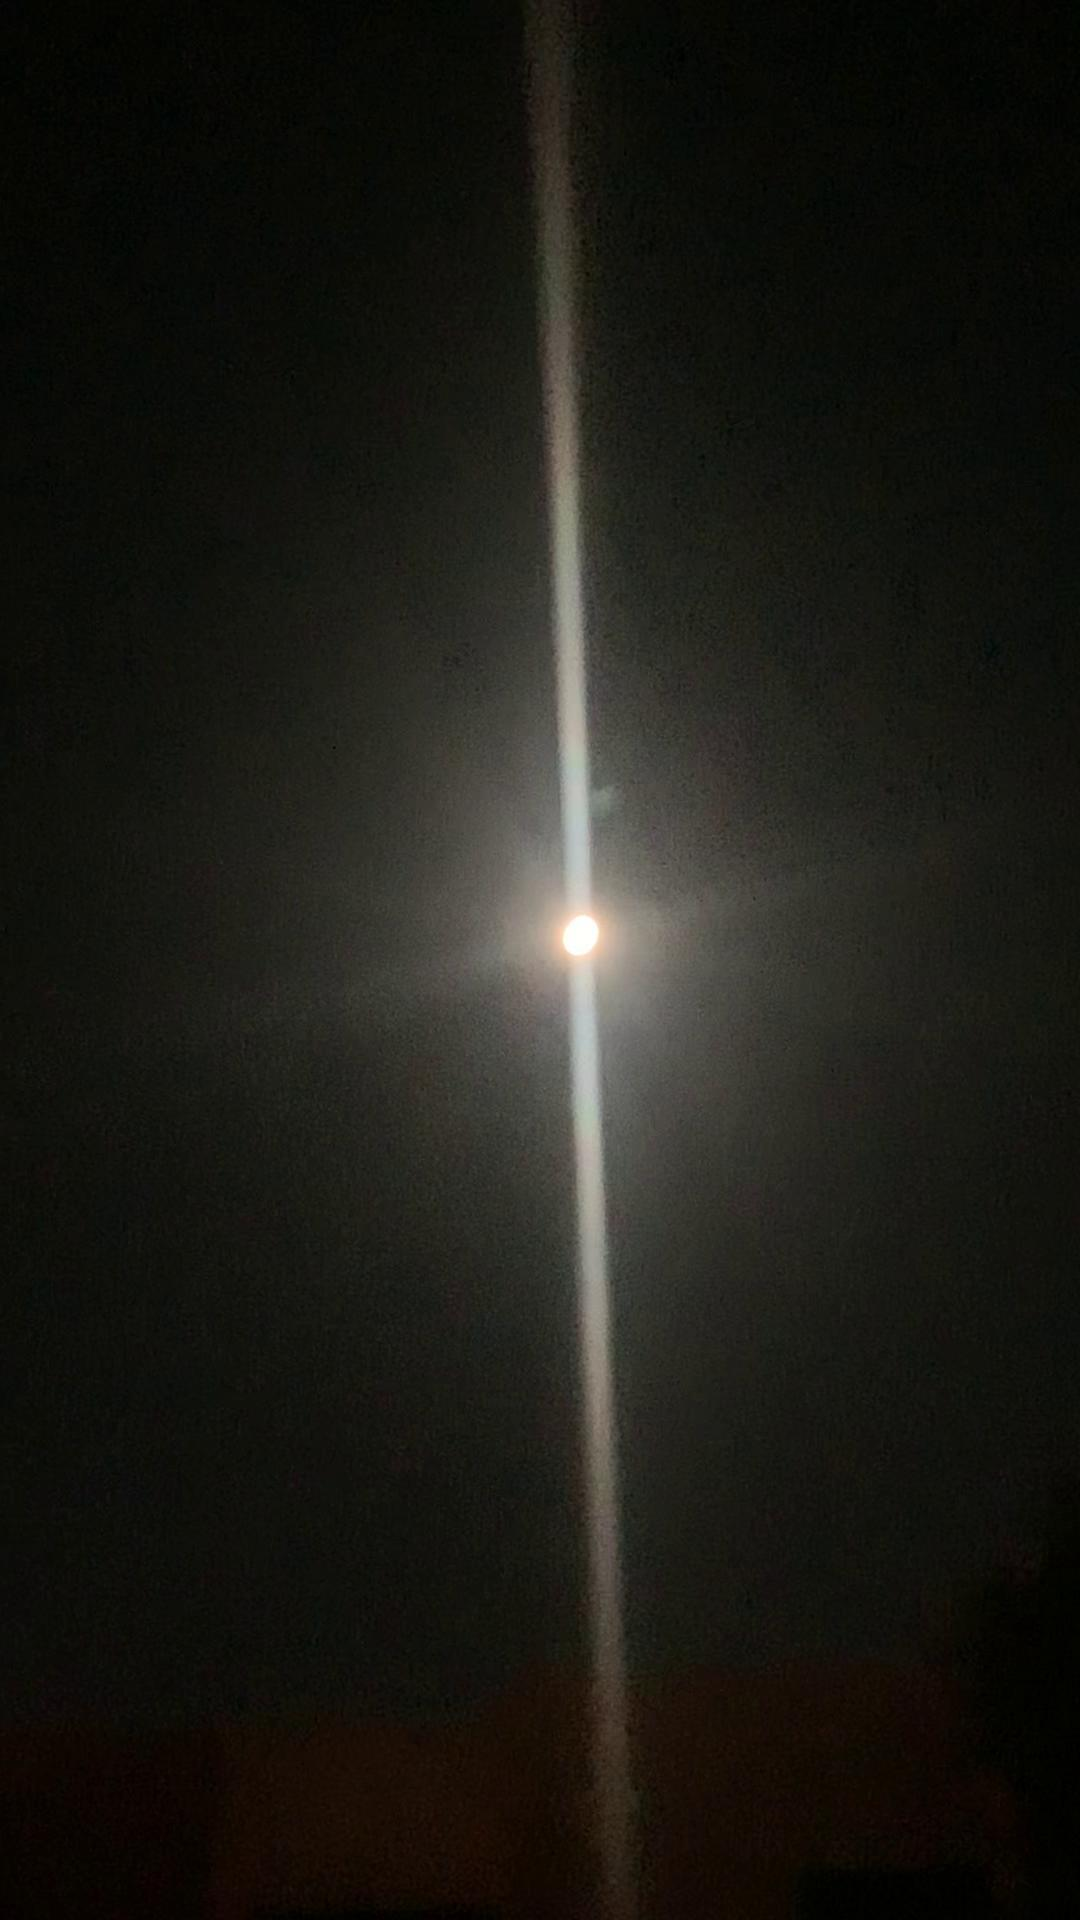moon: (533, 898, 638, 981)
